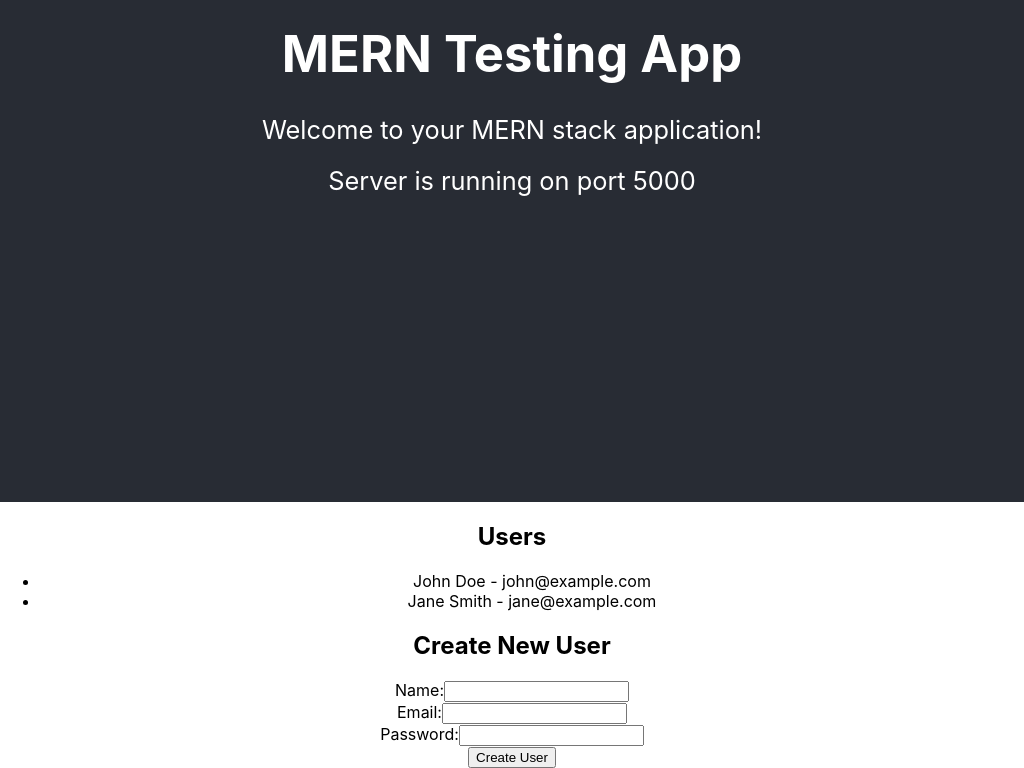
Test case: User Management Flow › should display users and allow creating new user
This screenshot has width=1024, height=768.
(page scrolled)
Check: the list item "John Doe - john@example.com" is shown, box [413, 571, 651, 591]
Check: the list item "Jane Smith - jane@example.com" is shown, box [408, 591, 656, 611]
// Fill out form to create new user
Type "New User" into the field labelled "Name:" at point(536, 691), box [444, 681, 629, 702]
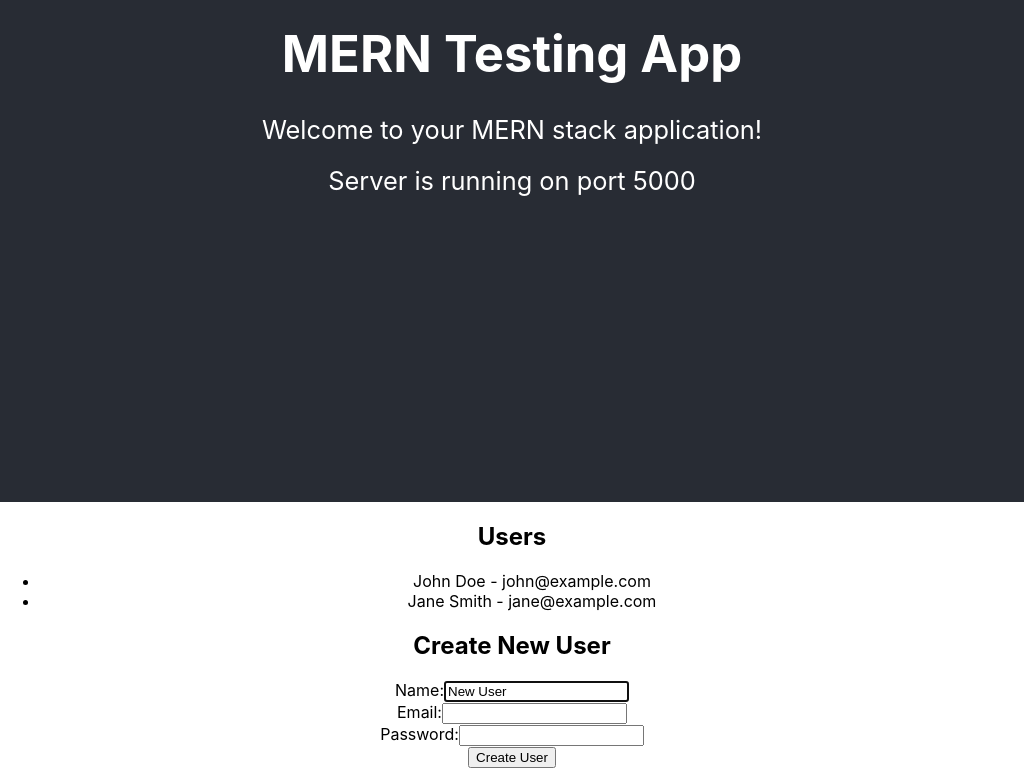
Type "new@example.com" into the field labelled "Email:" at point(534, 713), box [442, 703, 627, 724]
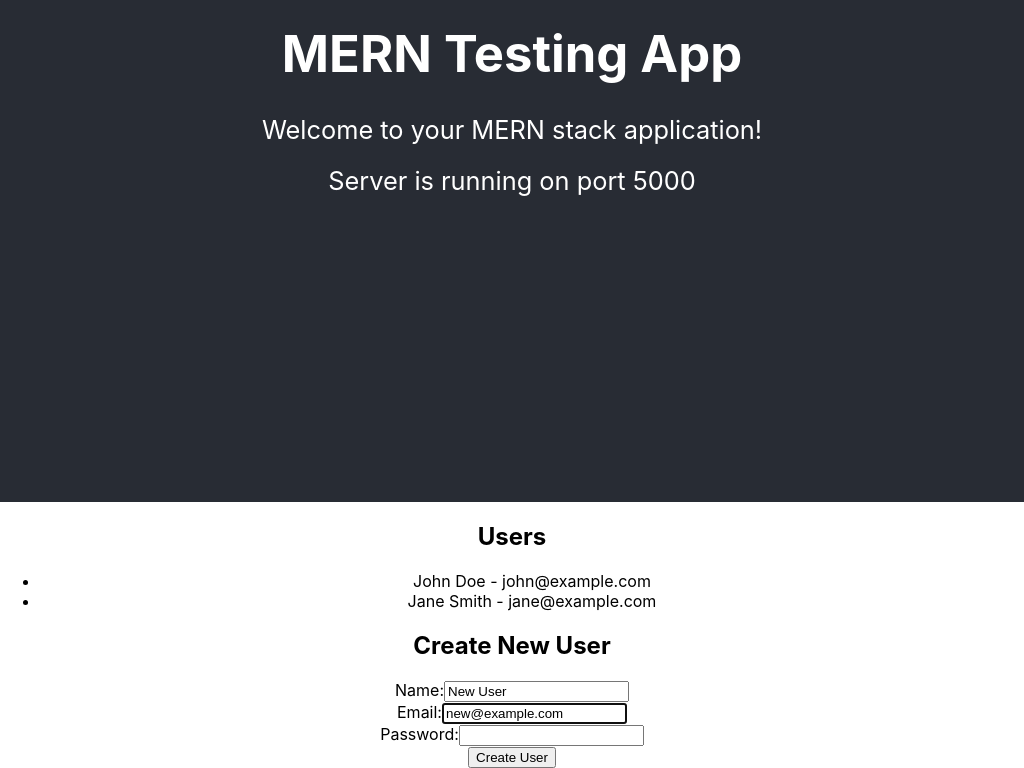
Type "Password123!" into the password field labelled "Password:" at point(551, 735), box [459, 725, 644, 746]
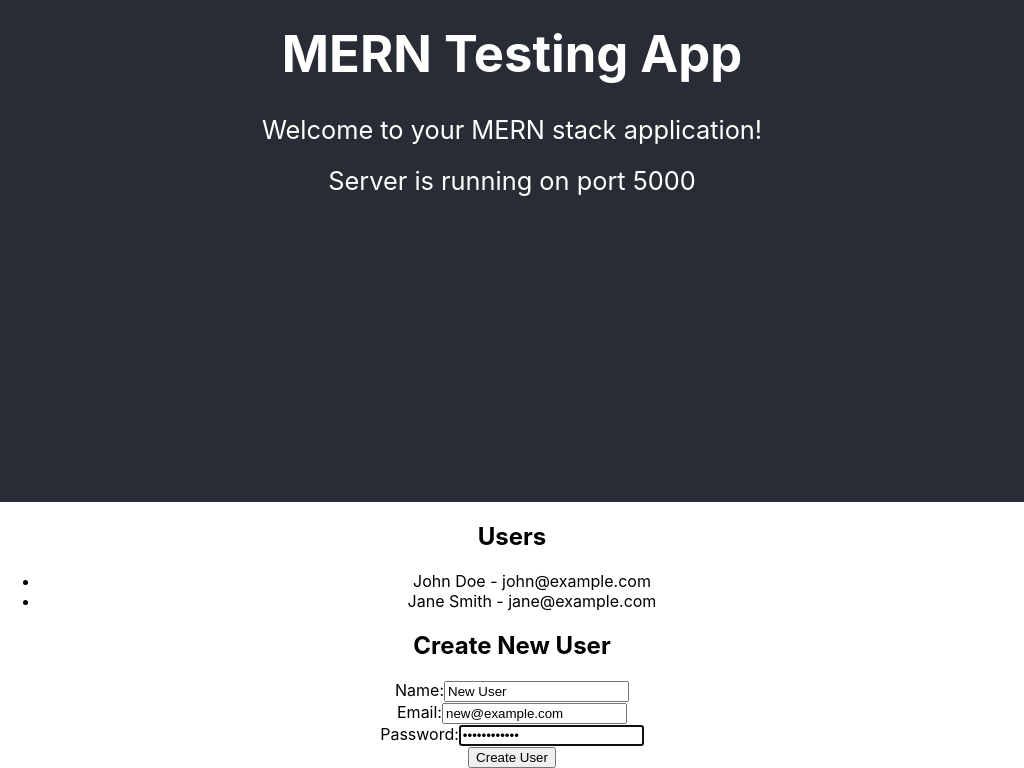
// Submit form
Click the button "Create User" at point(512, 757), box [468, 747, 556, 767]
(page scrolled)
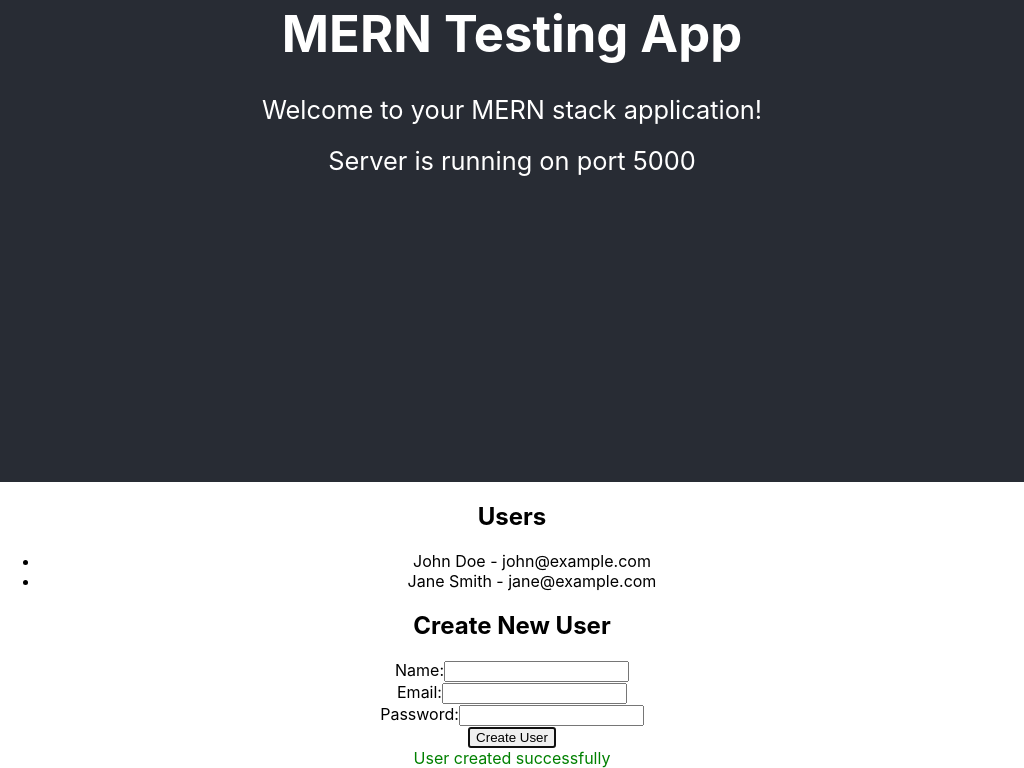
Check: the text "User created successfully" is shown, box [414, 748, 610, 767]
